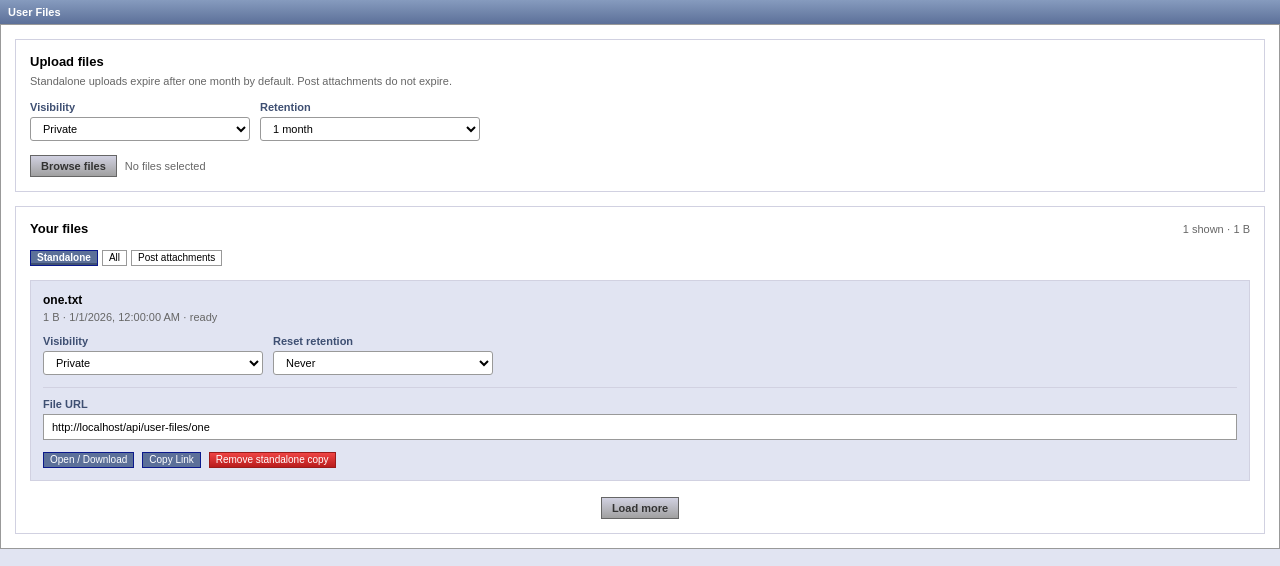
Test: UserFilesView async identity boundaries › does not leak a stale append response after the filter changes
Click the button "Load more" at [640, 508], box x1=601 y1=497 x2=679 y2=519
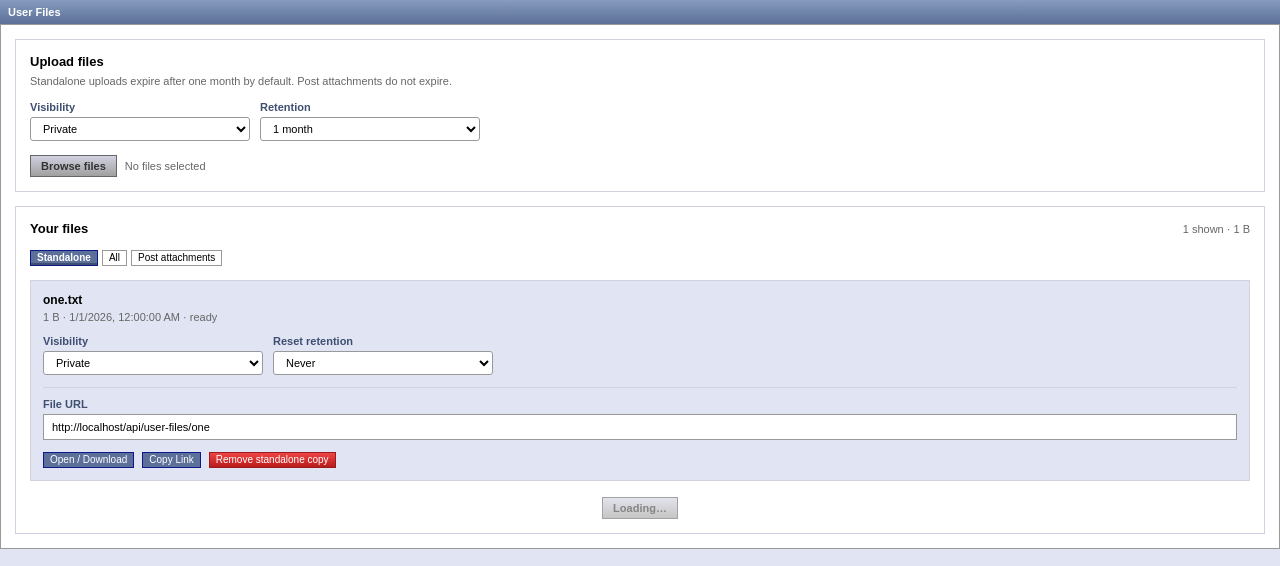
Click the button "All" at [114, 258], box x1=102 y1=250 x2=127 y2=266
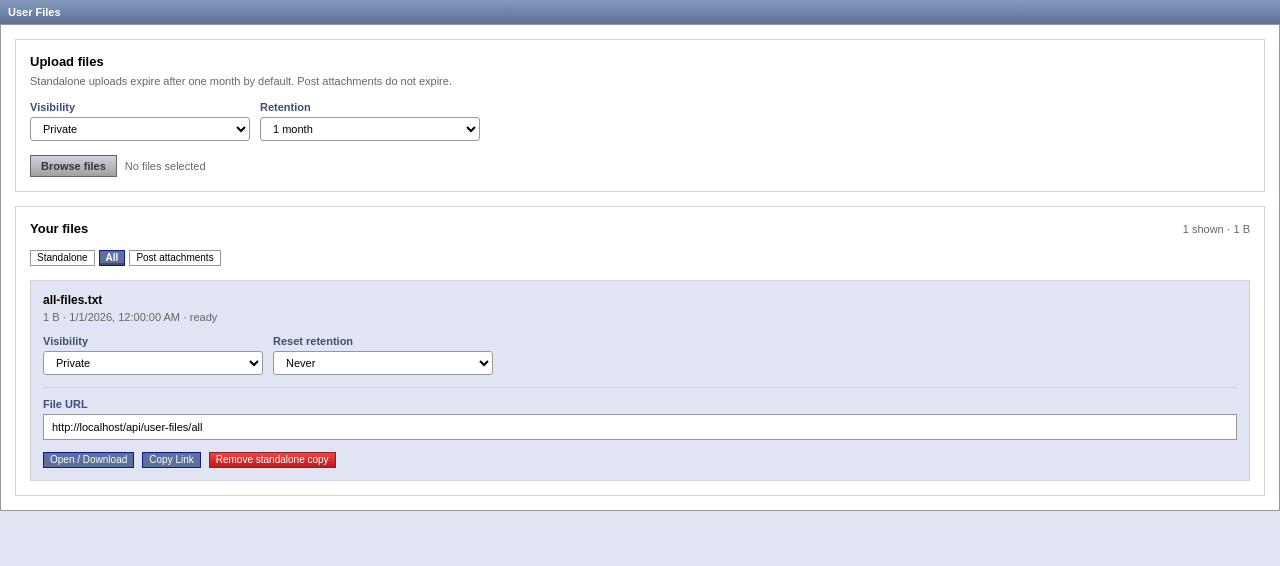
Result: the text "all-files.txt" is shown at x1=43 y1=293 x2=102 y2=307
